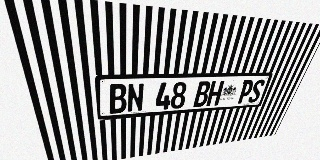4: (155, 82, 173, 110)
8: (170, 82, 188, 109)
B: (108, 84, 127, 114), (193, 81, 212, 107)
H: (206, 81, 225, 106)
N: (127, 83, 144, 112)
P: (236, 80, 255, 104)
S: (247, 79, 266, 103)
